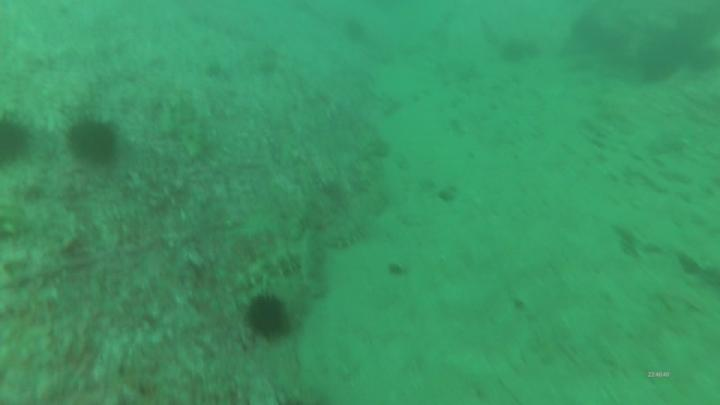echinus: (234, 243, 300, 291), (296, 222, 334, 300), (163, 95, 206, 161), (325, 214, 369, 253)
starfish: (63, 116, 124, 173), (244, 291, 294, 345), (1, 109, 35, 173), (567, 13, 608, 47), (637, 55, 680, 86), (340, 16, 371, 47), (696, 45, 720, 73)
